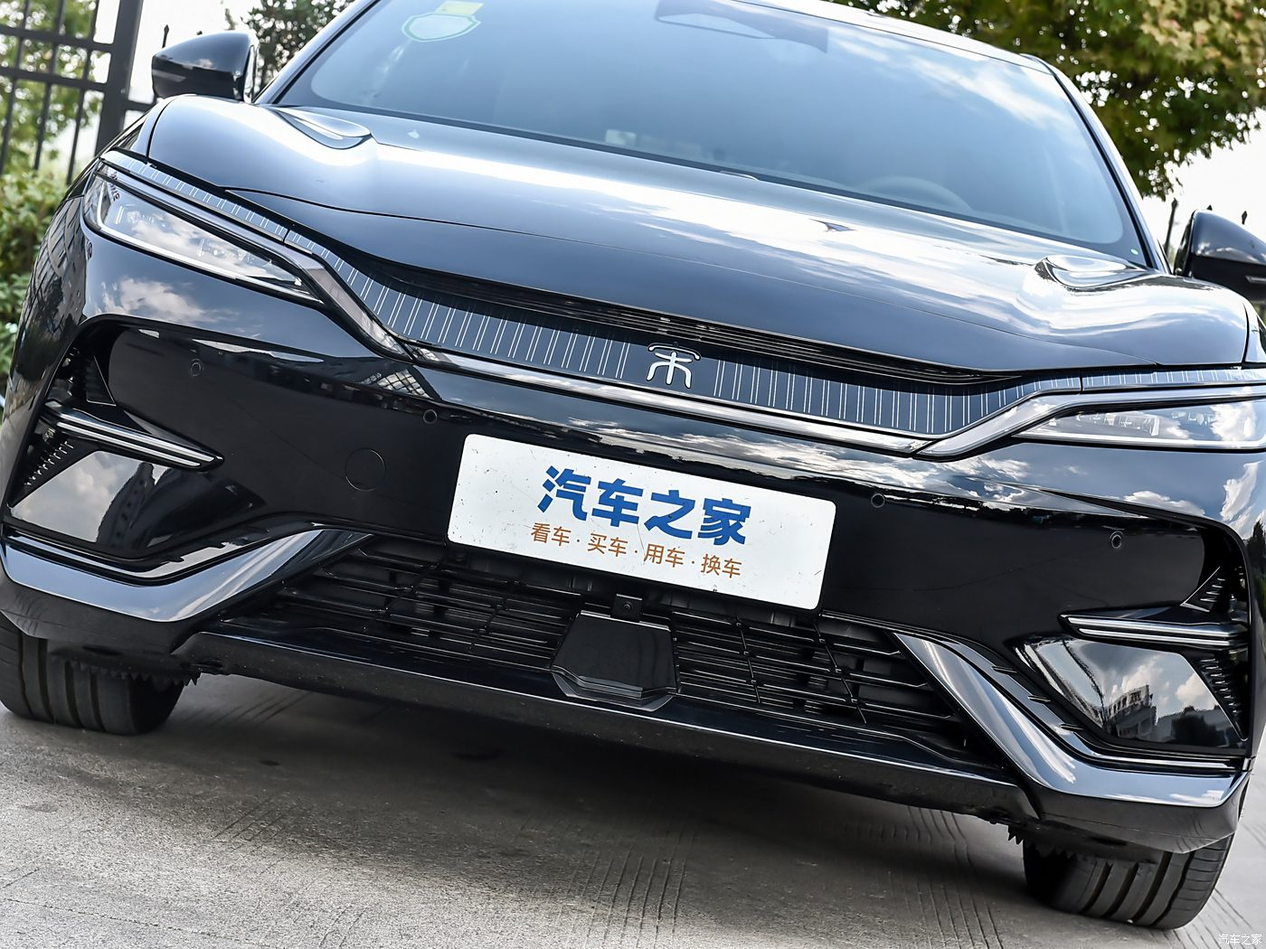BYD Song: (647, 343, 700, 388)
